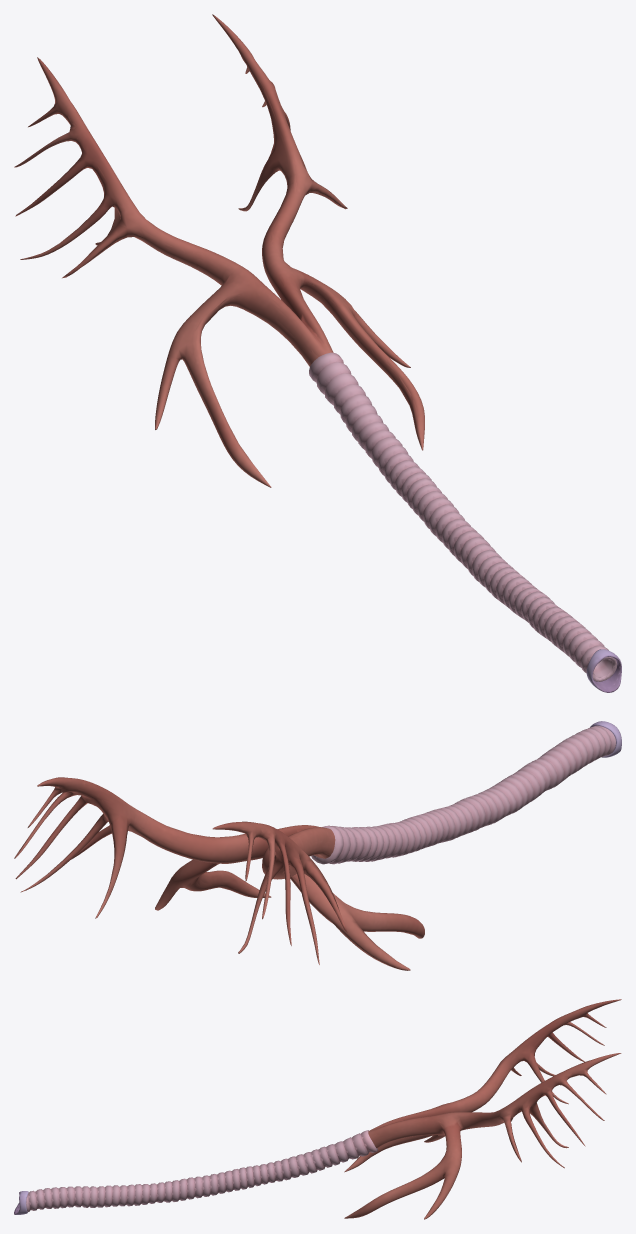
Rendered from Trachea.fbx.
3 renders of one model, top to bottom at view 1: azimuth 30°, elevation 25°; view 2: azimuth 150°, elevation 25°; view 3: azimuth 270°, elevation 25°, orthographic. The views are drawn at different scales.
Visible parts, largest first — view 1: Trachea high, Trachea, Trachea low; view 2: Trachea high, Trachea, Trachea low; view 3: Trachea high, Trachea, Trachea low.
Boxes of the visible parts, x1,y1,x2,y2 form: Trachea high: [14, 14, 621, 692]; Trachea: [309, 352, 617, 681]; Trachea low: [20, 52, 621, 692]; Trachea high: [14, 721, 621, 970]; Trachea: [311, 725, 615, 864]; Trachea low: [16, 725, 616, 966]; Trachea high: [14, 999, 621, 1219]; Trachea: [26, 1130, 377, 1211]; Trachea low: [14, 1005, 601, 1216].
Size of the model in its own units: 13.32 by 12.79 by 37.5.
1 material, 1 textured.
